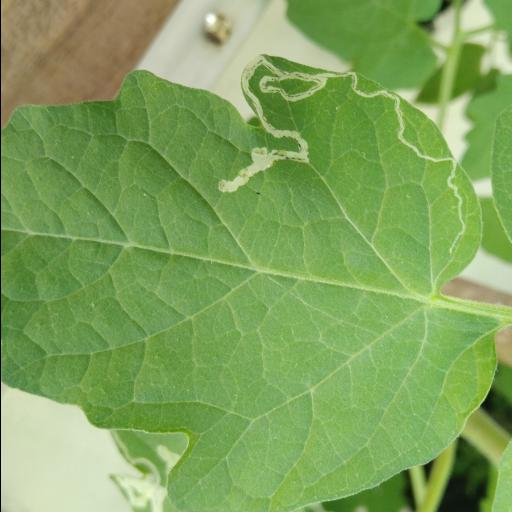disease_tomato: (0, 53, 500, 511)
